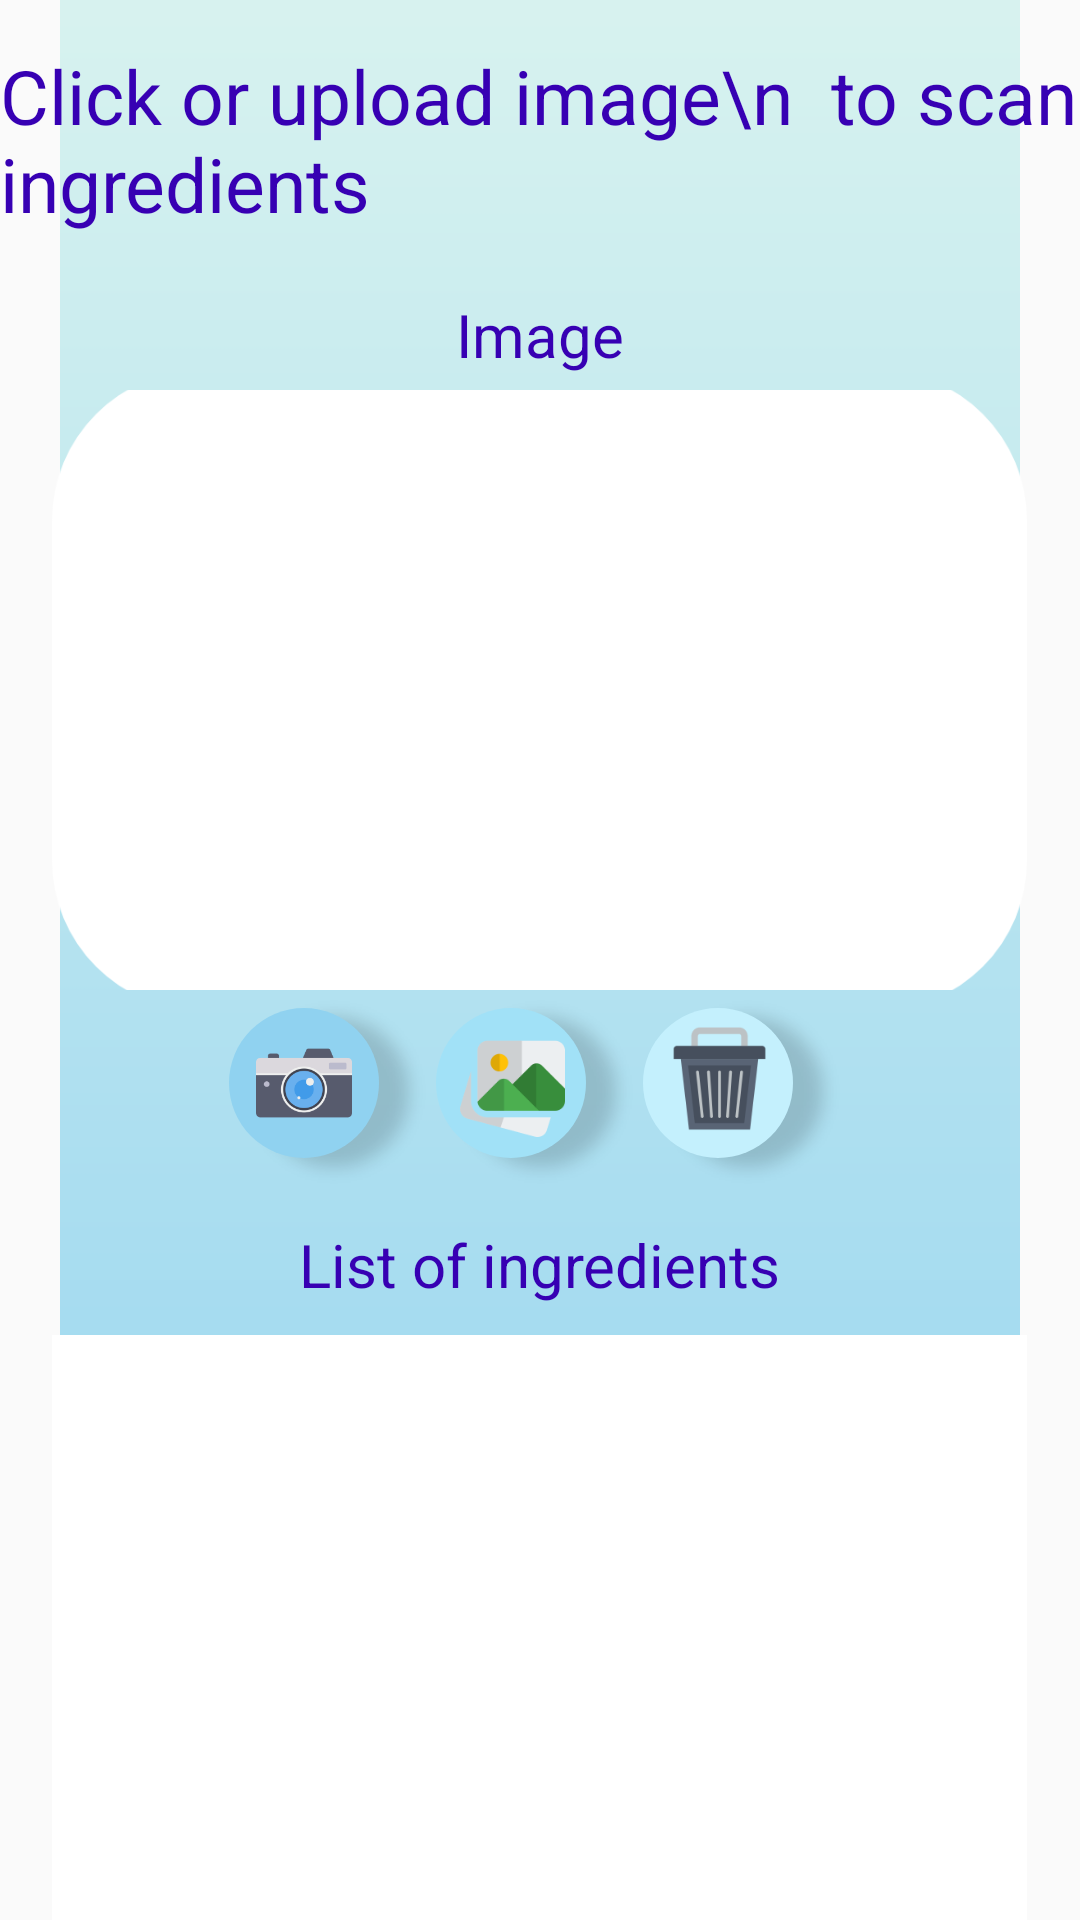

Named icons in this screenshot (1080x1920) and their centers, (x,y):
cameraicon: (317,1085)
galleryicon: (536,1092)
trashicon: (731,1085)
